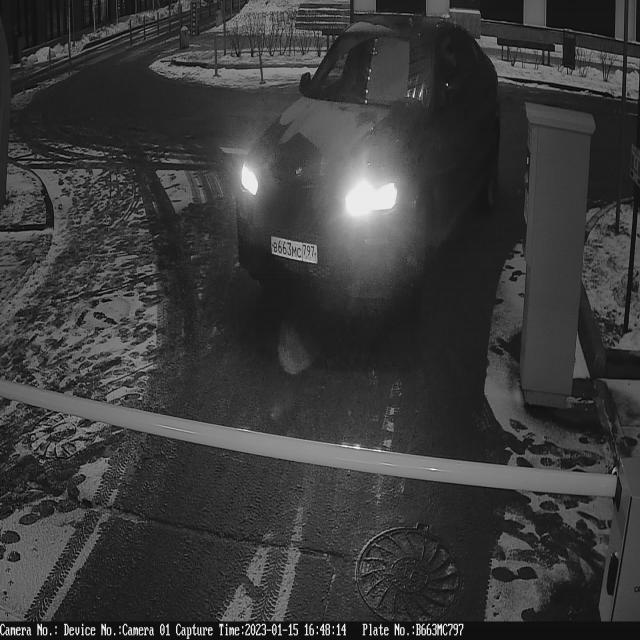car-plate-numbers: (269, 233, 320, 269)
